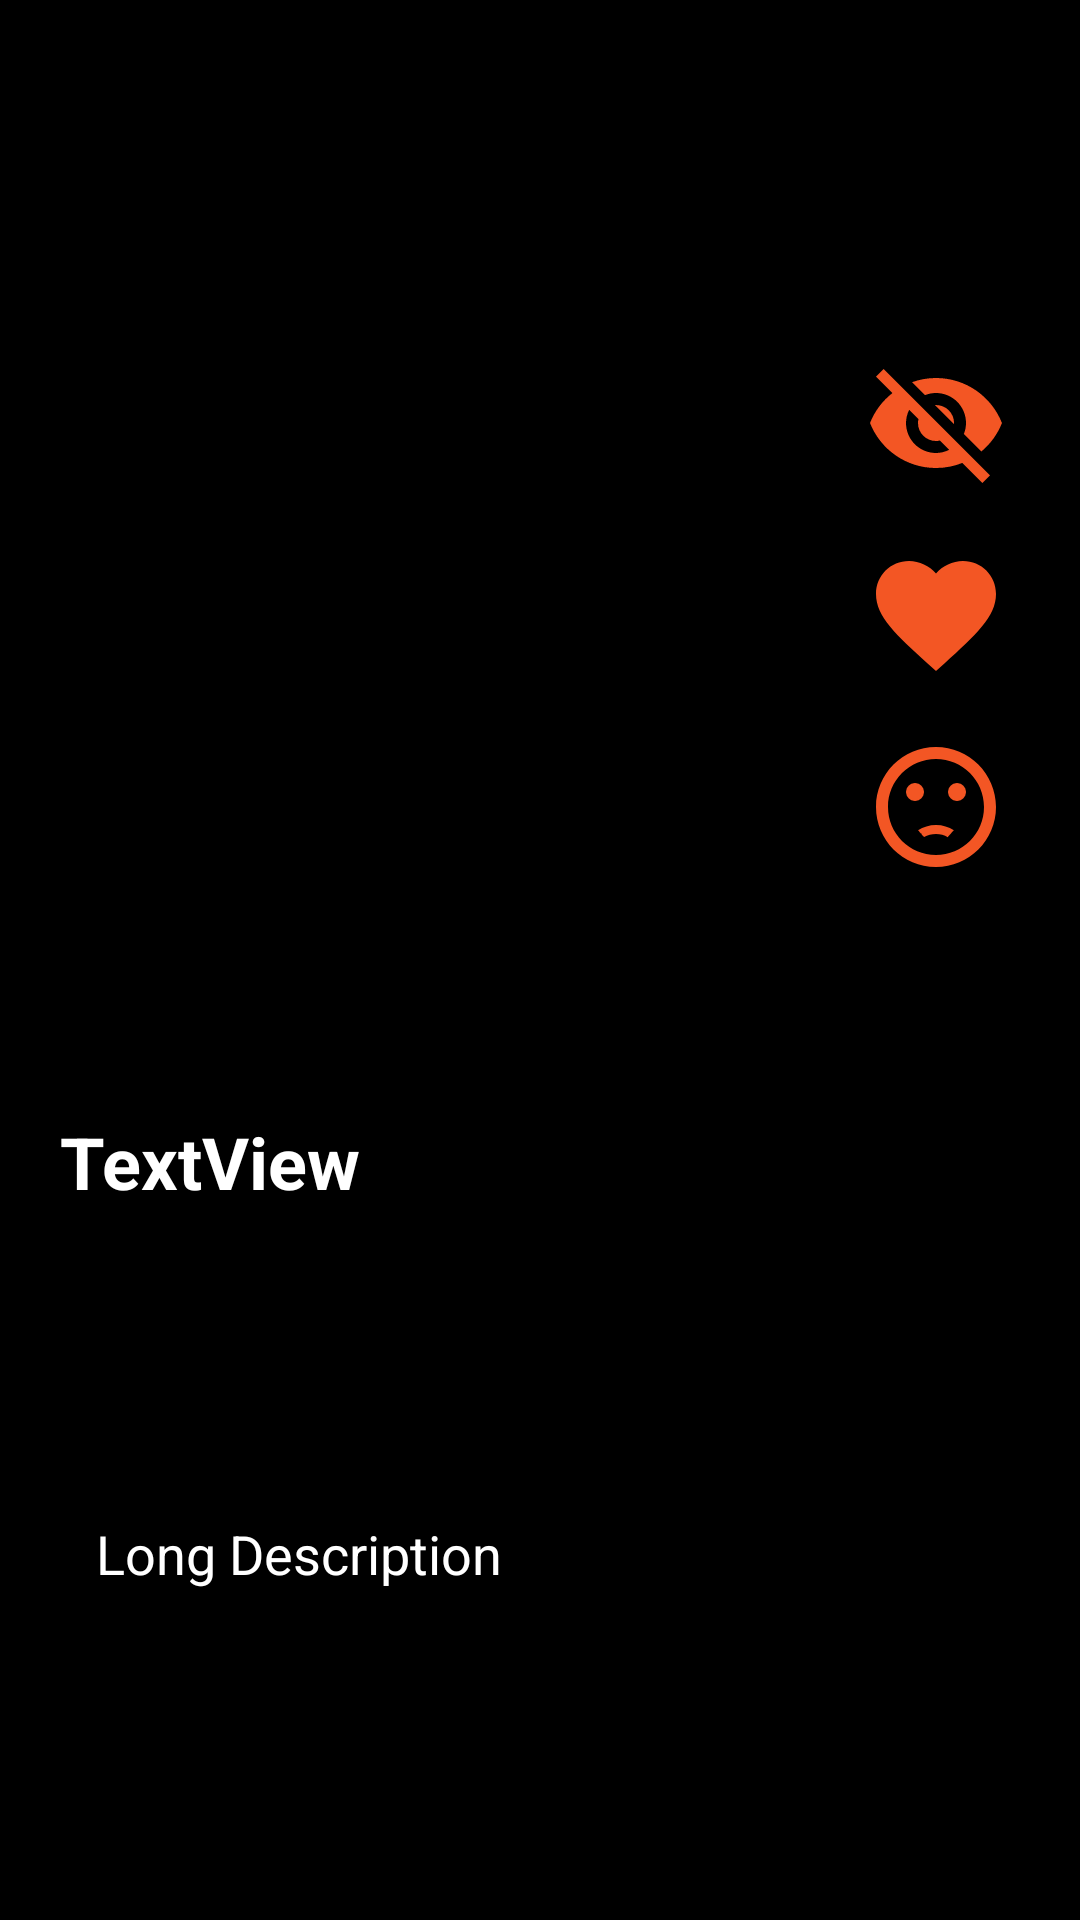

Where icons sit on this 1080px×1920px app screen, as [x1=x1, y1=y1, x2=x2, y2=y2]:
dissatisfied: [x1=876, y1=747, x2=996, y2=867]
love: [x1=876, y1=561, x2=996, y2=671]
not seen: [x1=870, y1=369, x2=1002, y2=483]
